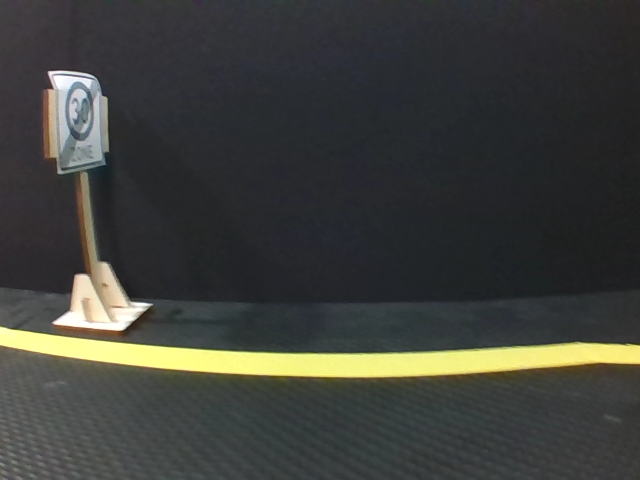no30: (53, 74, 104, 167)
